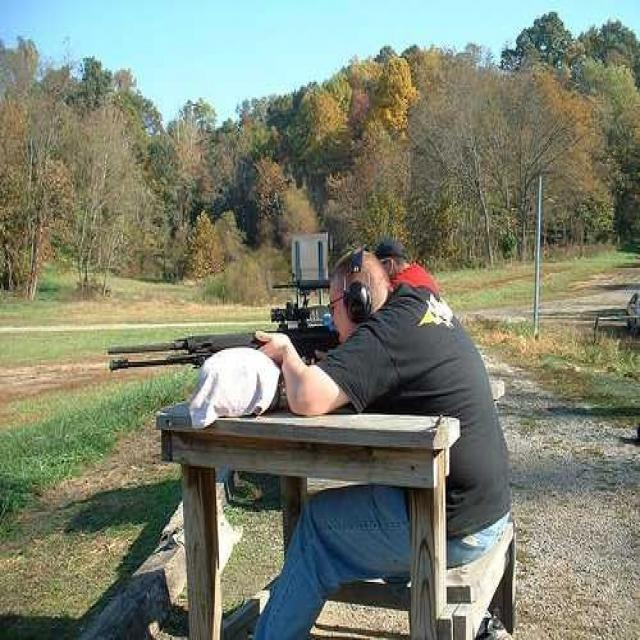weapon: (92, 297, 357, 389)
